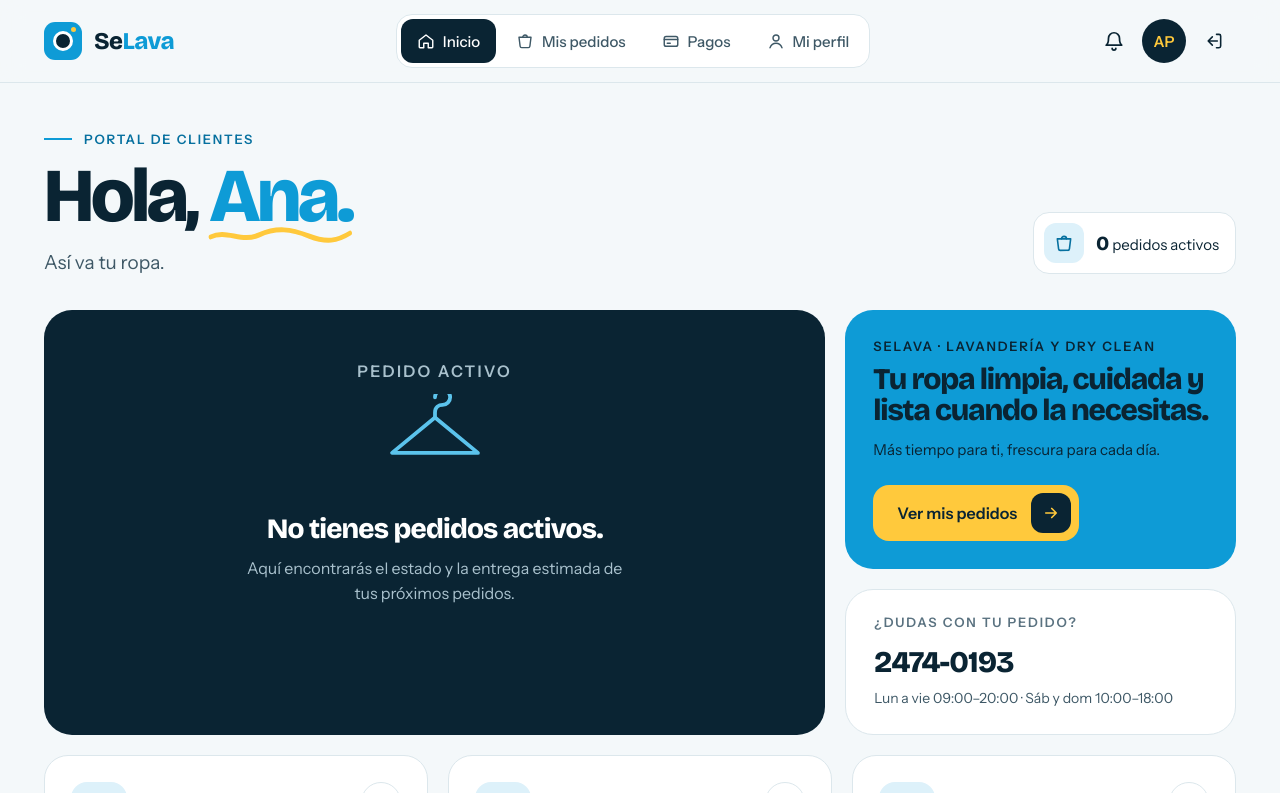
Home SEL-94 › lleva el CTA a la ruta preparada para los pedidos del cliente
This screenshot has width=1280, height=793.
Click the link "Ver mis pedidos" at point(976, 513), box 873,485 -> 1079,541
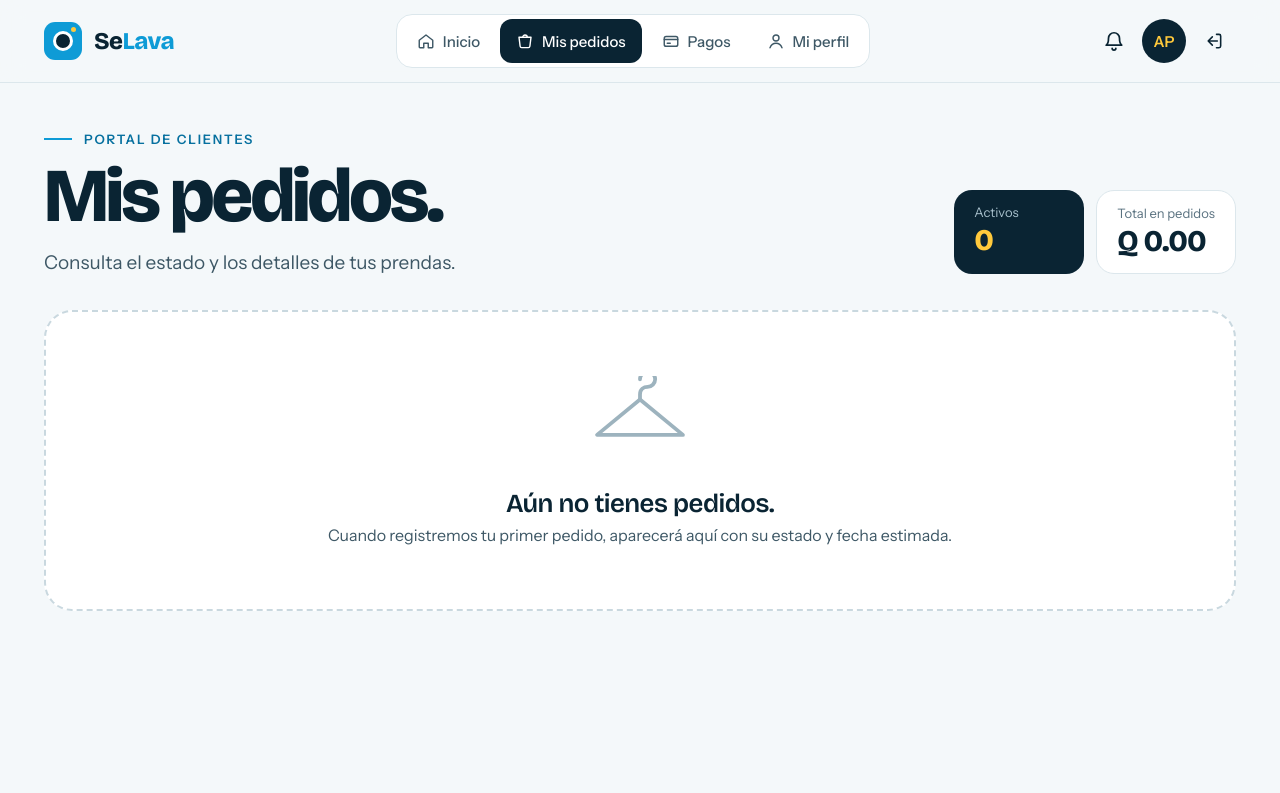
Now the heading "Mis pedidos." is shown, box 44,159 -> 456,234
Now the heading "Aún no tienes pedidos." is shown, box 506,488 -> 774,520
Click the link "Inicio" at point(448, 41), box 417,32 -> 480,50
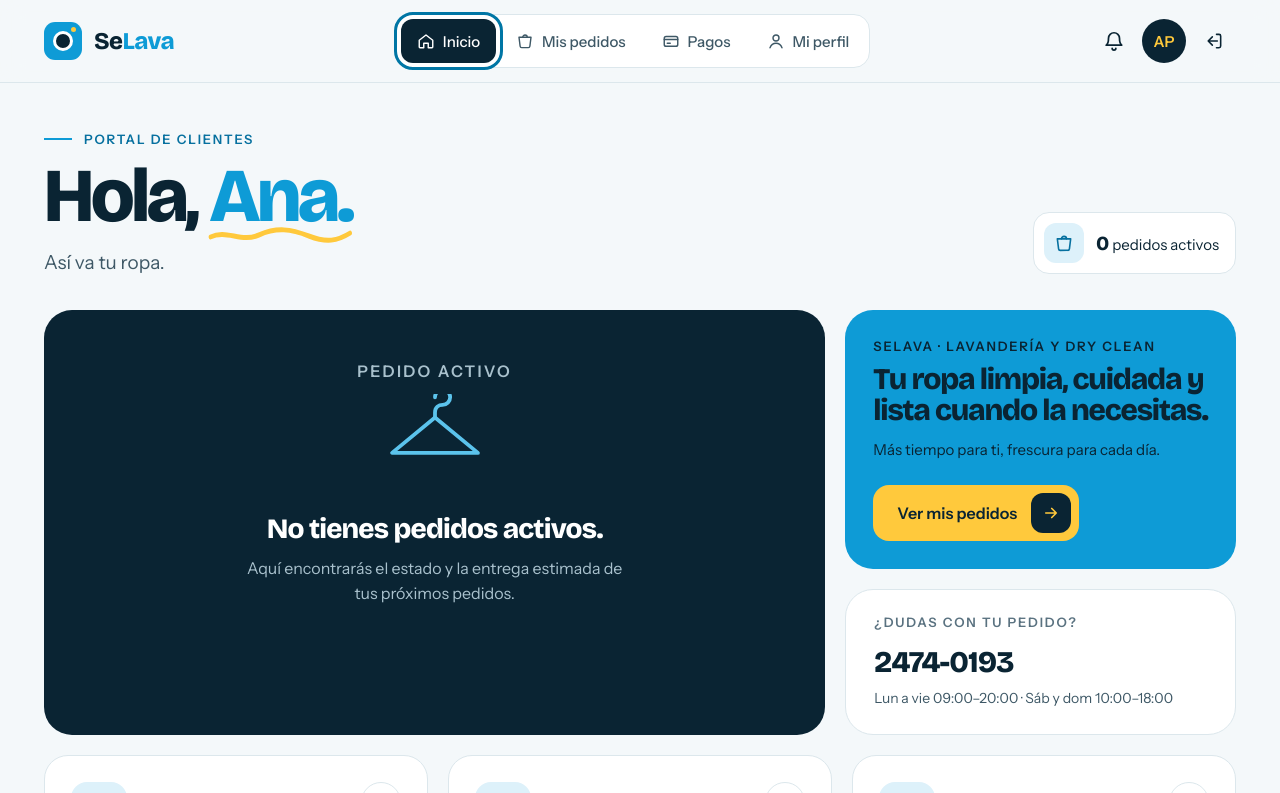
Now the heading "Hola, Ana." is shown, box 44,159 -> 352,234
